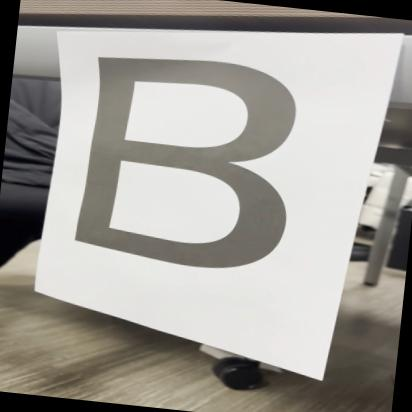seat: (54, 39, 315, 290)
